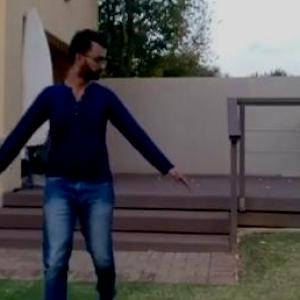land: (1, 27, 194, 299)
